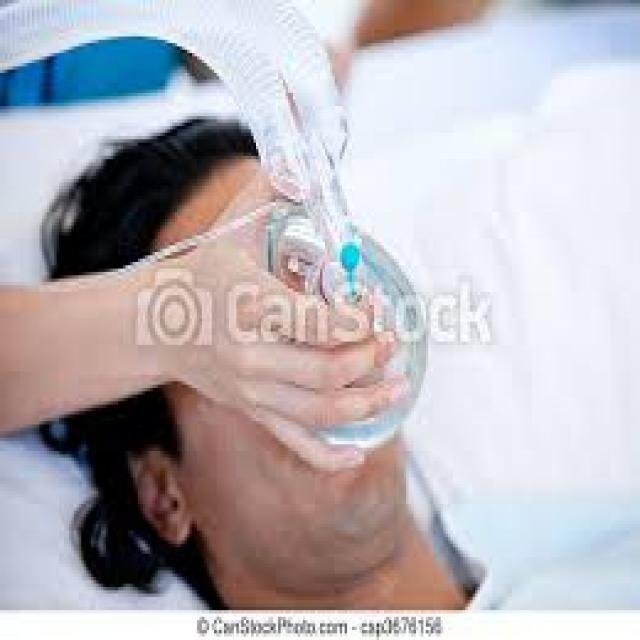oxygen_mask: (249, 186, 457, 470)
